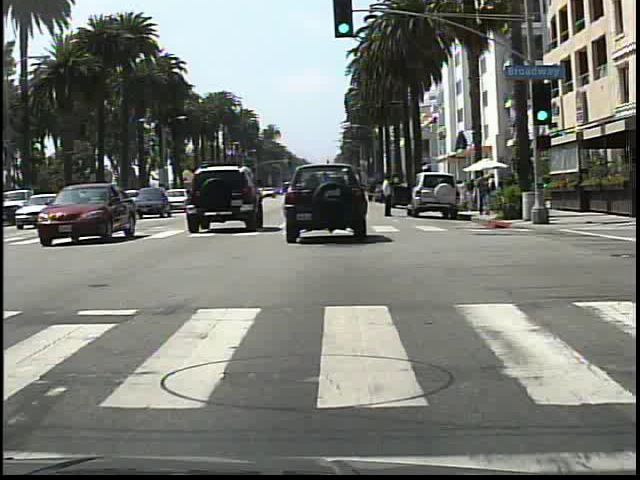person: (377, 168, 400, 220)
